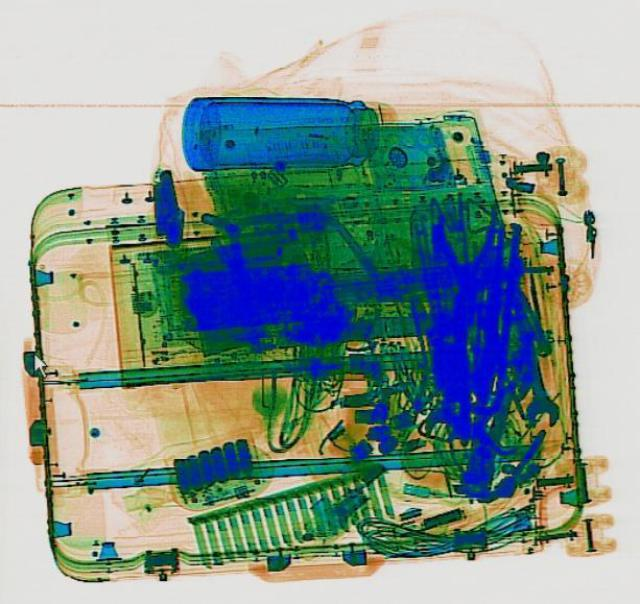Wrench: (509, 330, 561, 428)
